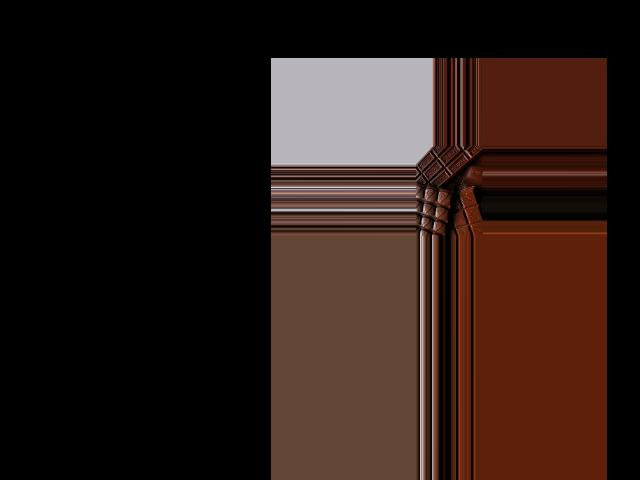chocolate: (440, 186, 479, 236)
